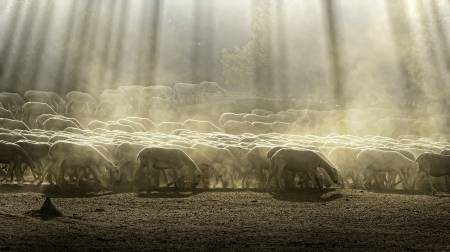sheep: (47, 140, 123, 190), (270, 148, 342, 195), (354, 145, 419, 191), (136, 147, 204, 190)
